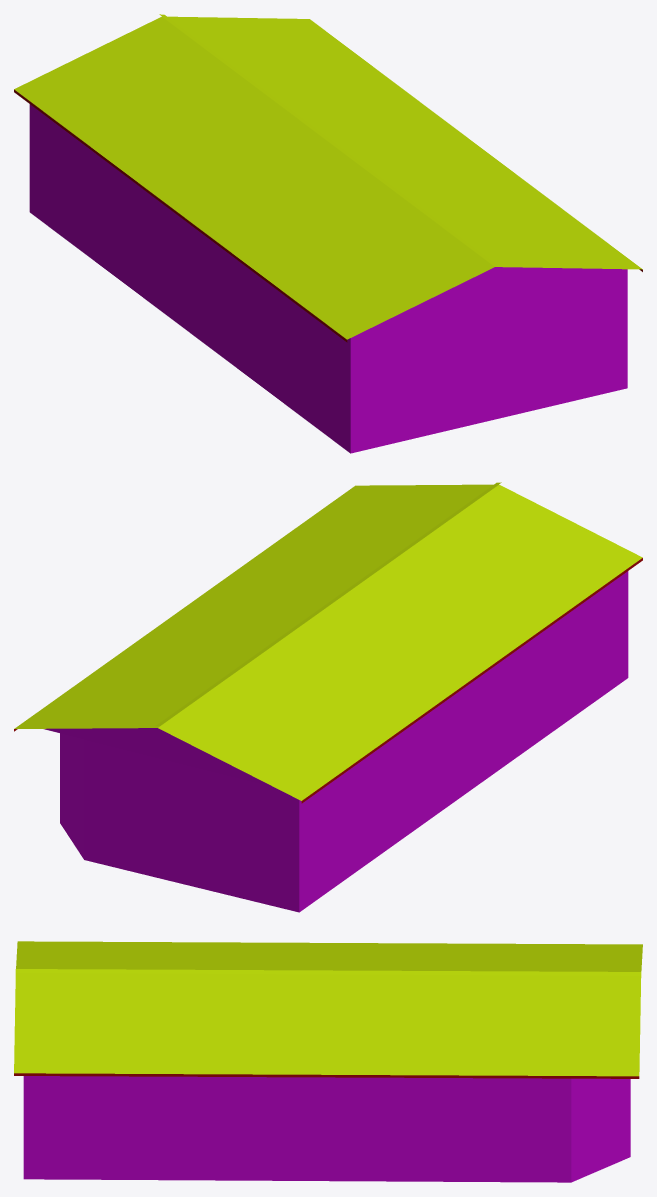
Rendered from mor_0.glb.
The picture shows the model from 3 angles, top to bottom: view 1: azimuth 30°, elevation 25°; view 2: azimuth 150°, elevation 25°; view 3: azimuth 270°, elevation 25°; orthographic projection. The views are drawn at different scales.
Parts seen in each view (by area): view 1: mor_0; view 2: mor_0; view 3: mor_0.
Part boxes in pixels (x1,y1,x2,y2): mor_0: [14, 14, 642, 453]; mor_0: [14, 482, 642, 912]; mor_0: [14, 941, 642, 1182].
Size of the model in its own units: 13.36 by 6.82 by 26.32.
